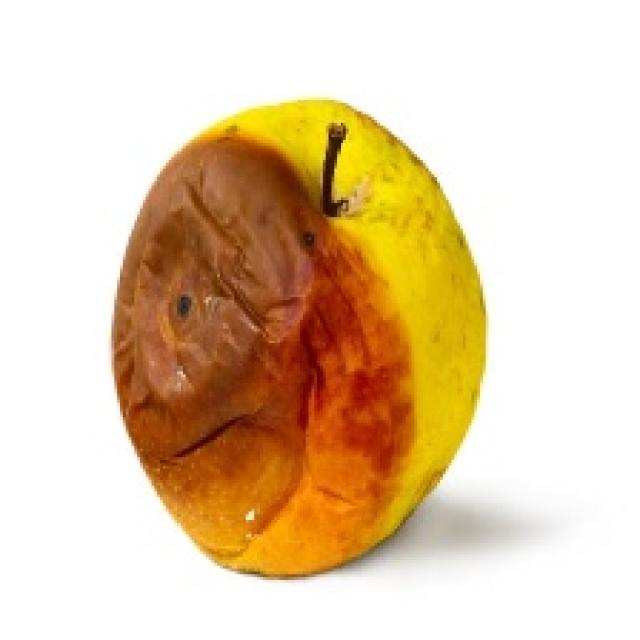rotten_apple: (118, 100, 487, 574)
